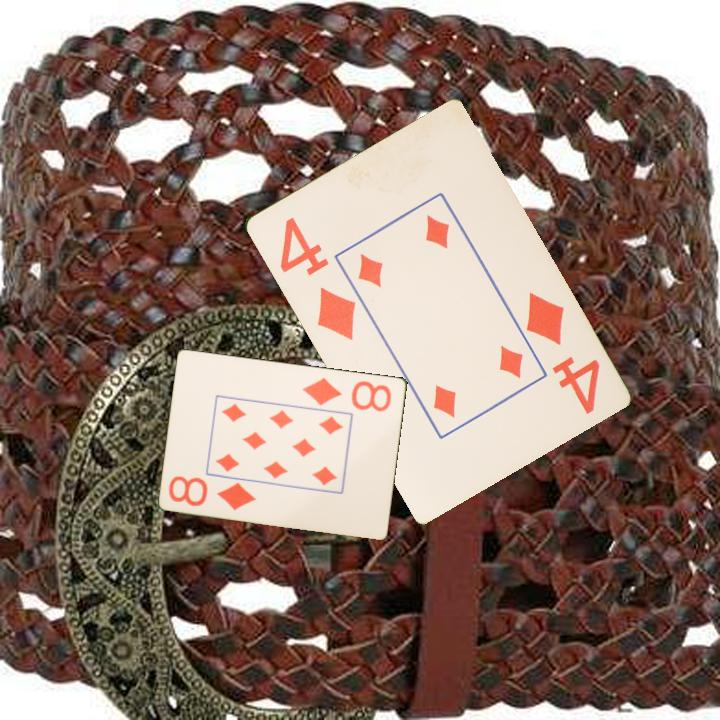4d: (275, 213, 359, 343), (521, 288, 603, 417)
8d: (165, 472, 259, 513), (299, 374, 395, 414)
